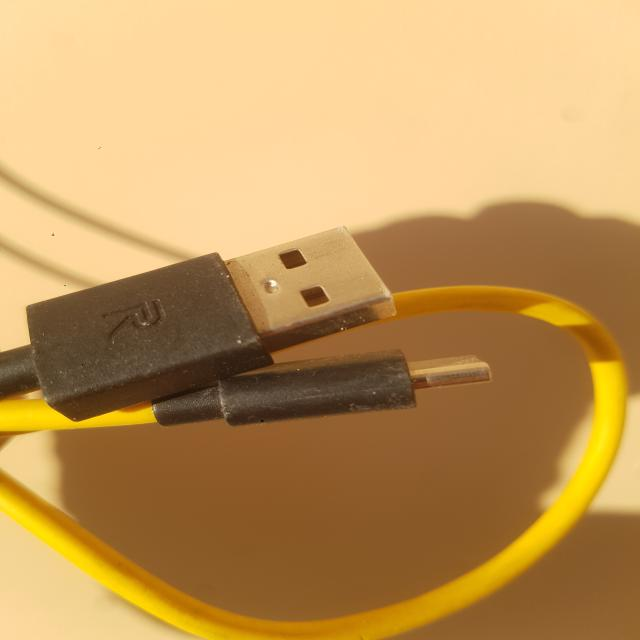electronic: (51, 157, 549, 606)
